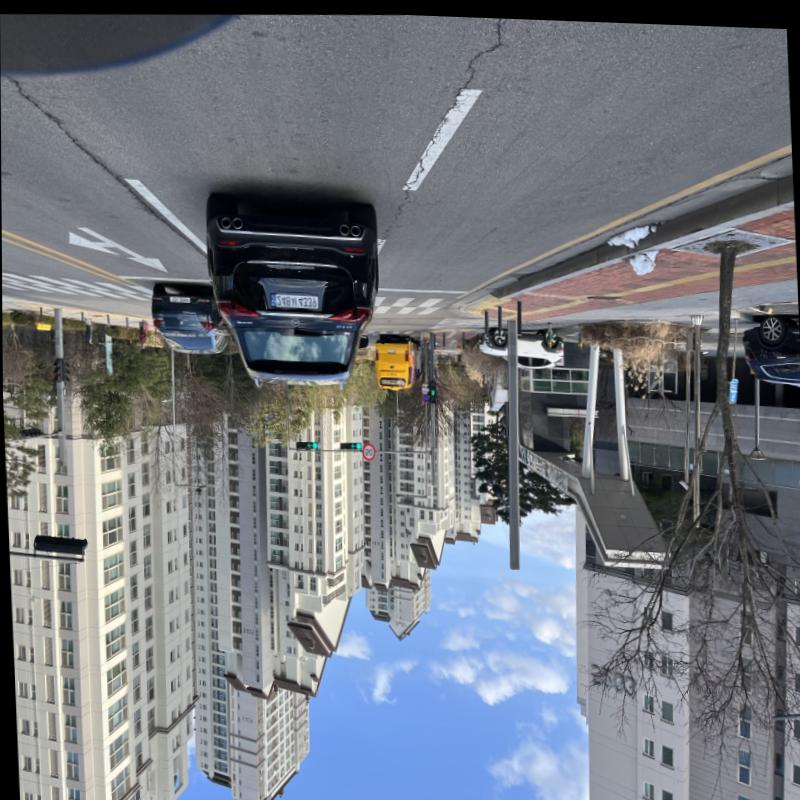green: (311, 439, 317, 446), (354, 440, 360, 446)
left: (305, 440, 311, 446), (349, 440, 355, 446)
